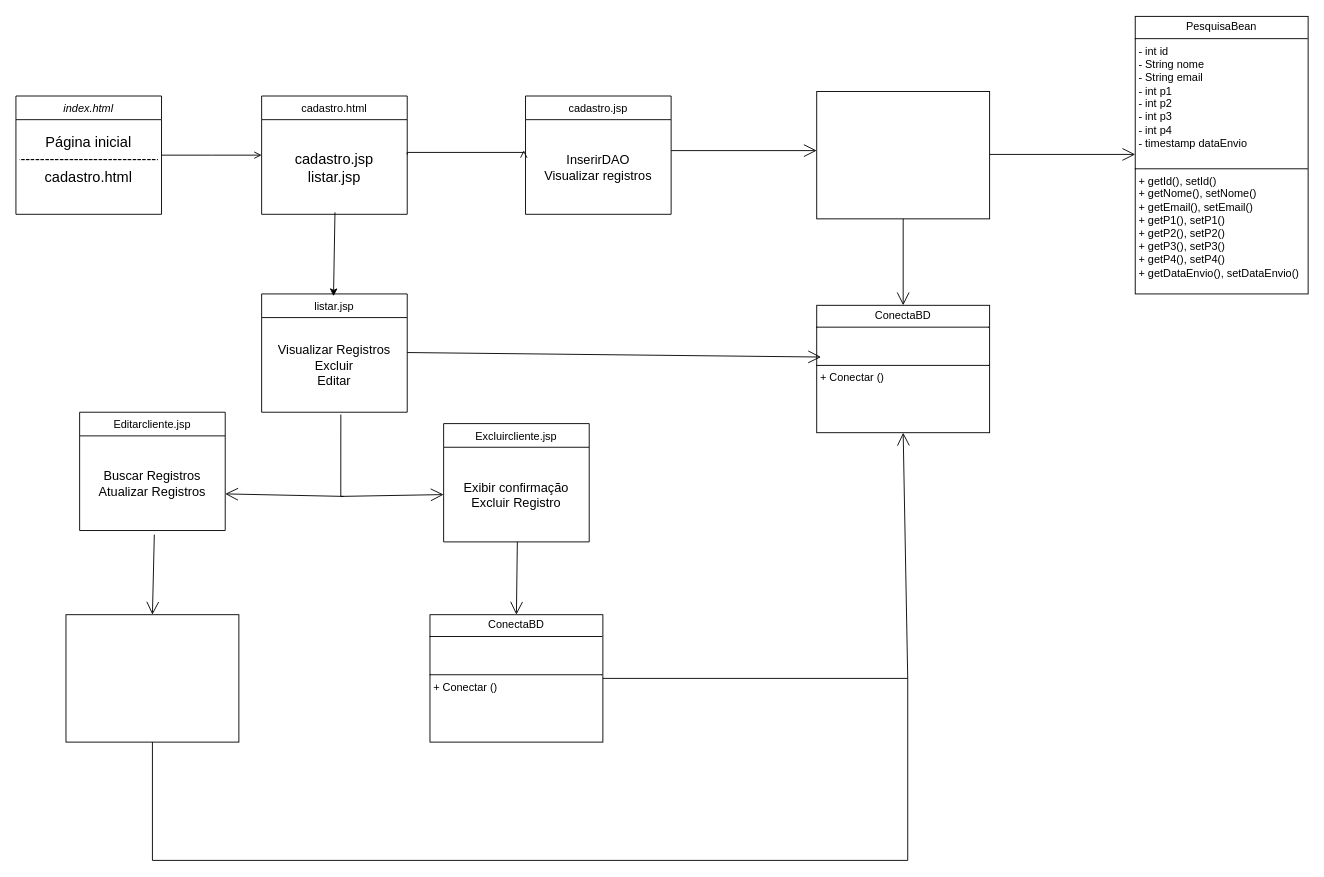
Image size: 1324x877. Some labels were removed from this diagram. The centre of each missing label's shape, as x and y in pixels:
EditarDAO + buscarId(int id) + atualizar (pesquisaBean bean): point (152, 678)
InserirDAO + Inserir (PesquisaBean bean): point (903, 155)
